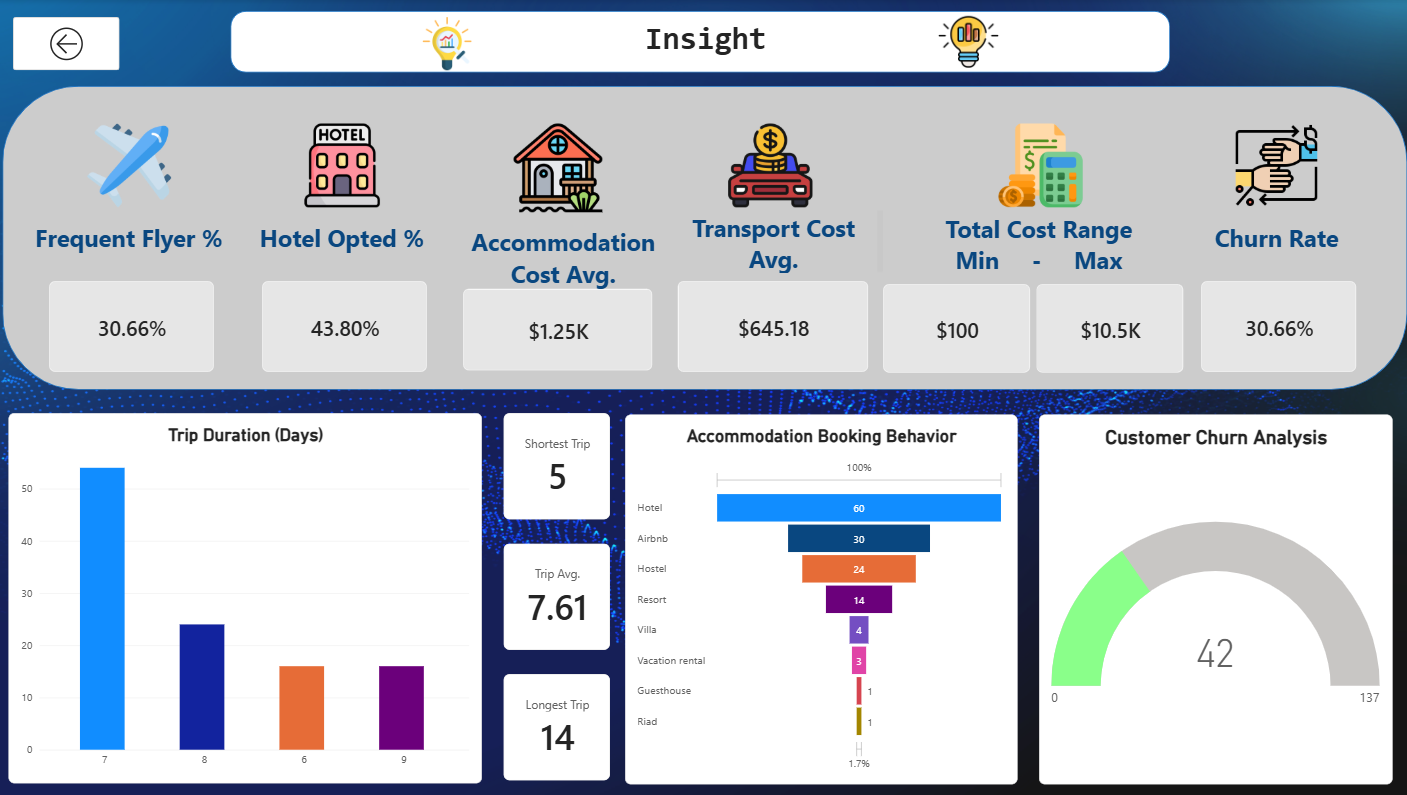

What the dashboard file says about the page in this screenshot:
{"tool":"powerbi","page":{"name":"Page 5","canvas":[1920,1080],"ordinal":4},"visuals":[{"type":"shape","box":[317.4,15.3,1269.8,83.2],"z":0},{"type":"textbox","box":[584.5,28.5,753.1,59.1],"z":1000},{"type":"actionButton","box":[1650.7,28.5,200,50],"z":2000},{"type":"shape","box":[19.2,128.3,1898.7,410.5],"z":3000},{"type":"group","id":"g1","title":"Group 1","box":[370,182.5,263.6,346.7],"z":4000},{"type":"cardVisual","fields":{"Data":["Travel details dataset.% Positive Churn Customer"]},"box":[1631.9,376.1,209.7,148.9],"z":4000,"group":"g6"},{"type":"cardVisual","fields":{"Data":["Travel details dataset.% Postive Frequent Flyer"]},"box":[84.7,381.9,250.7,140.6],"z":4000,"group":"g4"},{"type":"image","box":[1647.7,160,157.7,114.8],"z":5000,"group":"g6"},{"type":"group","id":"g2","title":"Group 2","box":[631.2,181.2,290,348],"z":5000},{"type":"image","box":[123.5,182.5,179.2,108],"z":5000,"group":"g4"},{"type":"group","id":"g3","title":"Group 3","box":[1210,160,405,367.5],"z":6000},{"type":"textbox","box":[1605,274.8,259.5,75.2],"z":6000,"group":"g6"},{"type":"textbox","box":[75,290.5,295,70.8],"z":6000,"group":"g4"},{"type":"group","id":"g4","title":"Group 4","box":[75,182.5,295,340],"z":7000},{"type":"image","box":[370,182.5,252.3,106.7],"z":7000,"group":"g1"},{"type":"group","id":"g5","title":"Group 3","box":[938.8,155,266.3,372.1],"z":8000},{"type":"textbox","box":[371.2,301.3,262.3,72.4],"z":8000,"group":"g1"},{"type":"cardVisual","fields":{"Data":["Travel details dataset.% Hotel Booked"]},"box":[389.9,380.6,212.5,148.6],"z":9000,"group":"g1"},{"type":"columnChart","title":"Trip Duration (Days)","fields":{"Category":["Travel details dataset.Duration (days)"],"Series":["Travel details dataset.Duration (days)"],"Y":["CountNonNull(Travel details dataset.Duration (days))"]},"box":[17.8,559.7,639.7,500.5],"z":9000},{"type":"image","box":[648.7,181.2,270,110],"z":10000,"group":"g2"},{"type":"cardVisual","title":"Shortest Trip","fields":{"Data":["Min(Travel details dataset.Duration (days))"]},"box":[681.4,561,154.6,139.5],"z":10000},{"type":"cardVisual","fields":{"Data":["Avg(Travel details dataset.Accommodation cost)"]},"box":[668.8,384,220.8,145.1],"z":11000,"group":"g2"},{"type":"cardVisual","fields":{"Data":["Max(Travel details dataset.Duration (days))"]},"box":[681.4,915.3,157.6,142.5],"z":11000},{"type":"textbox","box":[631.2,288.1,290,80],"z":12000,"group":"g2"},{"type":"funnel","title":"Accommodation Booking Behavior","fields":{"Category":["Travel details dataset.Accommodation type"],"Y":["CountNonNull(Travel details dataset.Accommodation type)"]},"box":[851.9,560.8,530.5,500.2],"z":12000},{"type":"cardVisual","fields":{"Data":["Min(Travel details dataset.Total Cost)","Max(Travel details dataset.Total Cost)1"]},"box":[1245.6,372,329.4,152.8],"z":13000,"group":"g3"},{"type":"cardVisual","fields":{"Data":["Avg(Travel details dataset.Transportation cost)"]},"box":[958,376.4,218.5,150.7],"z":13000,"group":"g5"},{"type":"gauge","title":"Customer Churn Analysis","fields":{"MaxValue":["CountNonNull(Travel details dataset.Target)1"],"MinValue":["Min(Travel details dataset.Target)"],"Y":["Sum(Travel details dataset.Target)2"]},"box":[1411.2,561.3,477.9,500.3],"z":13000},{"type":"image","box":[941.9,155,260,122.5],"z":14000,"group":"g5"},{"type":"image","box":[1215.6,160,391.2,113.7],"z":14000,"group":"g3"},{"type":"group","id":"g6","title":"Group 4","box":[1605,160,260,365],"z":14000},{"type":"cardVisual","title":"Shortest Trip","fields":{"Data":["Avg(Travel details dataset.Duration (days))"]},"box":[681.4,740.4,154.6,139.5],"z":14001},{"type":"textbox","box":[1210,274.1,401.5,94.1],"z":15000,"group":"g3"},{"type":"textbox","box":[938.8,290,266.3,104.3],"z":15000,"group":"g5"}]}

Visuals, with their boxes in screenshot pixels (x1, y1, x2, y2), scaled from the page's 1920x1080 canvas onto the 1407x795 screenshot:
shape: (x1=233, y1=11, x2=1163, y2=73)
textbox: (x1=428, y1=21, x2=980, y2=64)
actionButton: (x1=1210, y1=21, x2=1356, y2=58)
shape: (x1=14, y1=94, x2=1405, y2=397)
"Group 1" group: (x1=271, y1=134, x2=464, y2=390)
cardVisual - Travel details dataset.% Positive Churn Customer: (x1=1196, y1=277, x2=1350, y2=386)
cardVisual - Travel details dataset.% Postive Frequent Flyer: (x1=62, y1=281, x2=246, y2=385)
image: (x1=1207, y1=118, x2=1323, y2=202)
"Group 2" group: (x1=463, y1=133, x2=675, y2=390)
image: (x1=91, y1=134, x2=222, y2=214)
"Group 3" group: (x1=887, y1=118, x2=1183, y2=388)
textbox: (x1=1176, y1=202, x2=1366, y2=258)
textbox: (x1=55, y1=214, x2=271, y2=266)
"Group 4" group: (x1=55, y1=134, x2=271, y2=385)
image: (x1=271, y1=134, x2=456, y2=213)
"Group 3" group: (x1=688, y1=114, x2=883, y2=388)
textbox: (x1=272, y1=222, x2=464, y2=275)
cardVisual - Travel details dataset.% Hotel Booked: (x1=286, y1=280, x2=441, y2=390)
"Trip Duration (Days)" columnChart: (x1=13, y1=412, x2=482, y2=780)
image: (x1=475, y1=133, x2=673, y2=214)
"Shortest Trip" cardVisual: (x1=499, y1=413, x2=613, y2=516)
cardVisual - Avg(Travel details dataset.Accommodation cost): (x1=490, y1=283, x2=652, y2=389)
cardVisual - Max(Travel details dataset.Duration (days)): (x1=499, y1=674, x2=615, y2=779)
textbox: (x1=463, y1=212, x2=675, y2=271)
"Accommodation Booking Behavior" funnel: (x1=624, y1=413, x2=1013, y2=781)
cardVisual - Min(Travel details dataset.Total Cost) x Max(Travel details dataset.Total Cost)1: (x1=913, y1=274, x2=1154, y2=386)
cardVisual - Avg(Travel details dataset.Transportation cost): (x1=702, y1=277, x2=862, y2=388)
"Customer Churn Analysis" gauge: (x1=1034, y1=413, x2=1384, y2=781)
image: (x1=690, y1=114, x2=881, y2=204)
image: (x1=891, y1=118, x2=1177, y2=201)
"Group 4" group: (x1=1176, y1=118, x2=1367, y2=386)
"Shortest Trip" cardVisual: (x1=499, y1=545, x2=613, y2=648)
textbox: (x1=887, y1=202, x2=1181, y2=271)
textbox: (x1=688, y1=213, x2=883, y2=290)
